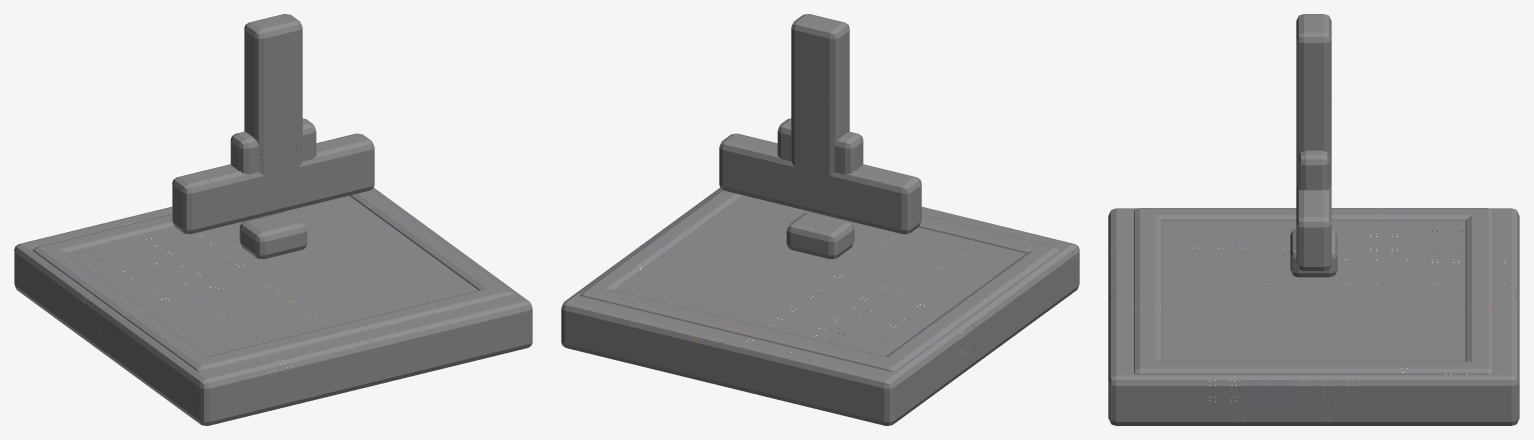
The model's file is mesh_ui-rival-badge.fbx.
3 views of the same model, side by side, from view 1: azimuth 30°, elevation 25°; view 2: azimuth 150°, elevation 25°; view 3: azimuth 270°, elevation 25° (orthographic). The views are drawn at different scales.
Visible parts, largest first — view 1: mesh_ui-rival-badge; view 2: mesh_ui-rival-badge; view 3: mesh_ui-rival-badge.
Part boxes in pixels (box(x1,y1,x2,y2)): mesh_ui-rival-badge: box(14, 14, 532, 425); mesh_ui-rival-badge: box(561, 14, 1079, 425); mesh_ui-rival-badge: box(1108, 14, 1519, 425).
Size of the model in its own units: 0.52 by 0.445 by 0.52.
Materials: 1 (1 with a texture image).
